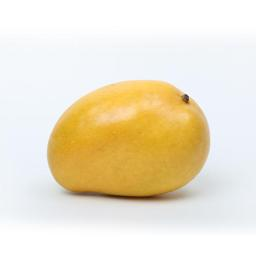Mango Fresh: (25, 84, 223, 206)
